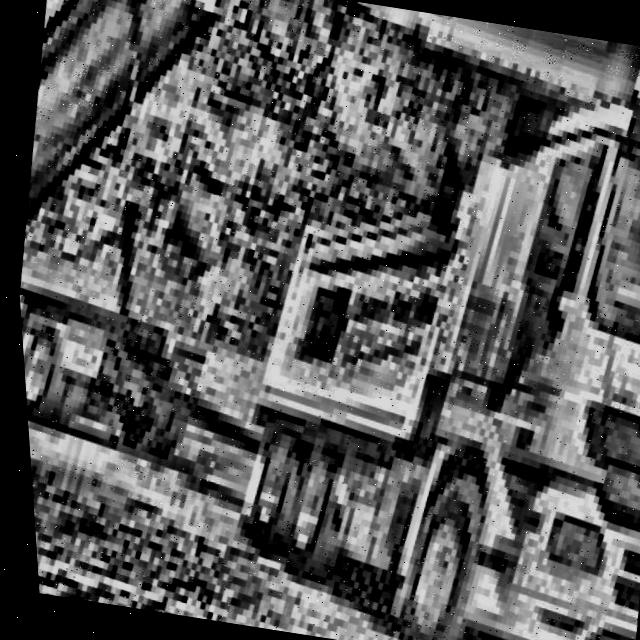dump_truck: (138, 0, 640, 640)
